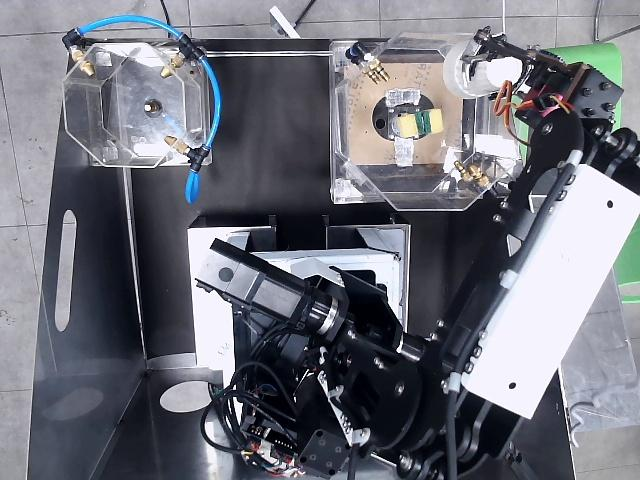cup: (443, 40, 521, 98)
